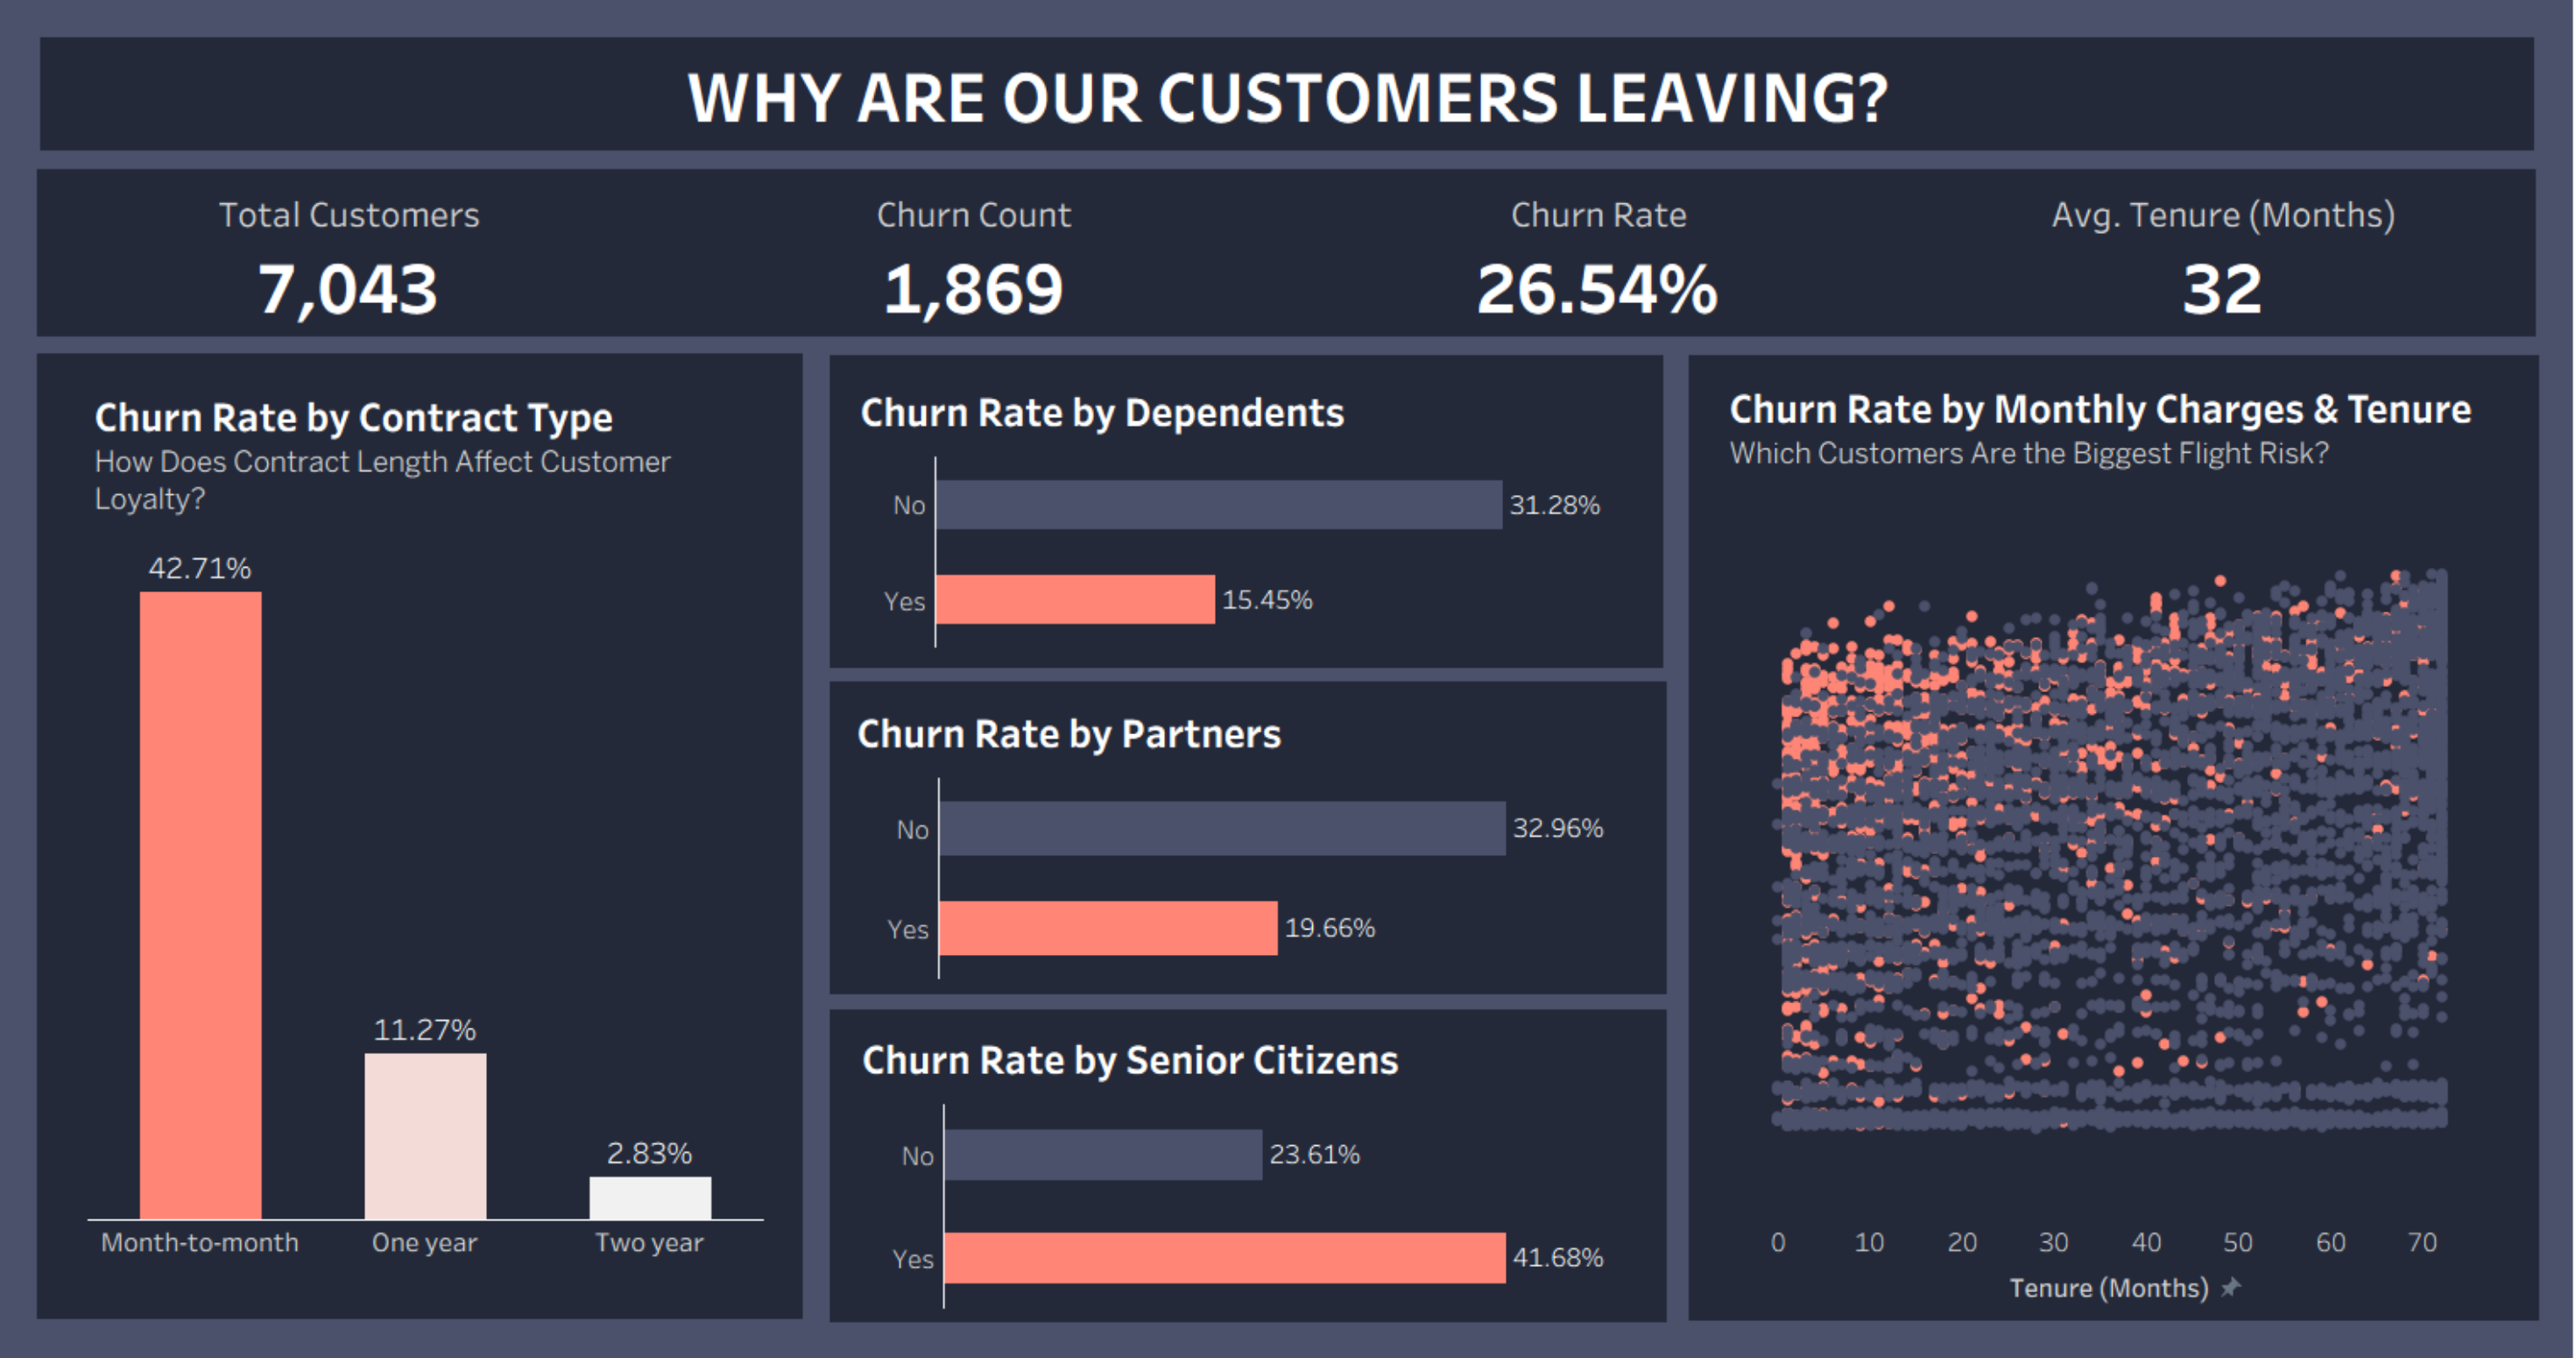

What the dashboard file says about the page in this screenshot:
{"tool":"tableau","page":{"name":"Customer Churn Analysis Dashboard","canvas":[1580,800],"ordinal":0},"visuals":[{"type":"text","box":[50,22,1475,67]},{"type":"worksheet","title":"KPIs","mark":"Automatic","box":[48,100,1478,99]},{"type":"text","box":[48,209,453,571]},{"type":"text","box":[517,210,493,185]},{"type":"text","box":[1025,210,503,571]},{"type":"worksheet","title":"Churn Rate by Monthly Charges & Tenure","mark":"Circle","rows":["MonthlyCharges"],"cols":["tenure"],"box":[1045,221,459,551]},{"type":"worksheet","title":"Churn Rate by Dependents","mark":"Automatic","rows":["Dependents"],"cols":["Calculation_1217660808513720326"],"box":[531,223,463,160]},{"type":"worksheet","title":"Churn Rate by Contract Type","mark":"Automatic","rows":["Calculation_1217660808513720326"],"cols":["Contract"],"box":[78,226,400,535]},{"type":"text","box":[517,403,495,185]},{"type":"worksheet","title":"Churn Rate by Partners","mark":"Automatic","rows":["Partner"],"cols":["Calculation_1217660808513720326"],"box":[529,413,467,166]},{"type":"text","box":[517,597,495,185]},{"type":"worksheet","title":"Churn Rate by Senior Citizens","mark":"Automatic","rows":["SeniorCitizen"],"cols":["Calculation_1217660808513720326"],"box":[532,606,464,168]}]}

Visuals, with their boxes on the page's 1580x800 design canvas (x1, y1, x2, y2). These are canvas units, not pixel positions in the 2576x1358 screenshot, which may show the page scaled, cropped or inside an application window:
text: locate(50, 22, 1525, 89)
"KPIs" worksheet: locate(48, 100, 1526, 199)
text: locate(48, 209, 501, 780)
text: locate(517, 210, 1010, 395)
text: locate(1025, 210, 1528, 781)
"Churn Rate by Monthly Charges & Tenure" worksheet (Circle marks): locate(1045, 221, 1504, 772)
"Churn Rate by Dependents" worksheet: locate(531, 223, 994, 383)
"Churn Rate by Contract Type" worksheet: locate(78, 226, 478, 761)
text: locate(517, 403, 1012, 588)
"Churn Rate by Partners" worksheet: locate(529, 413, 996, 579)
text: locate(517, 597, 1012, 782)
"Churn Rate by Senior Citizens" worksheet: locate(532, 606, 996, 774)
